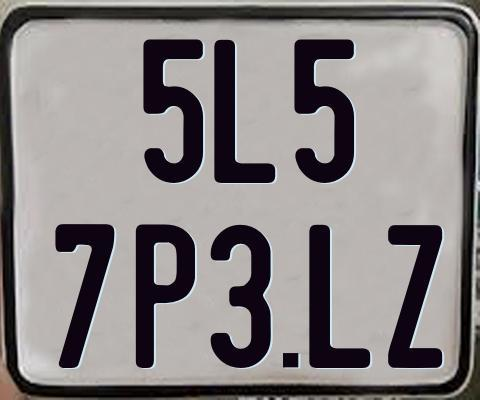3: (207, 224, 274, 369)
5: (292, 37, 353, 186), (143, 36, 203, 180)
7: (52, 223, 116, 373)
L: (212, 38, 276, 181), (309, 223, 370, 370)
P: (135, 222, 197, 371)
Z: (386, 224, 445, 373)
